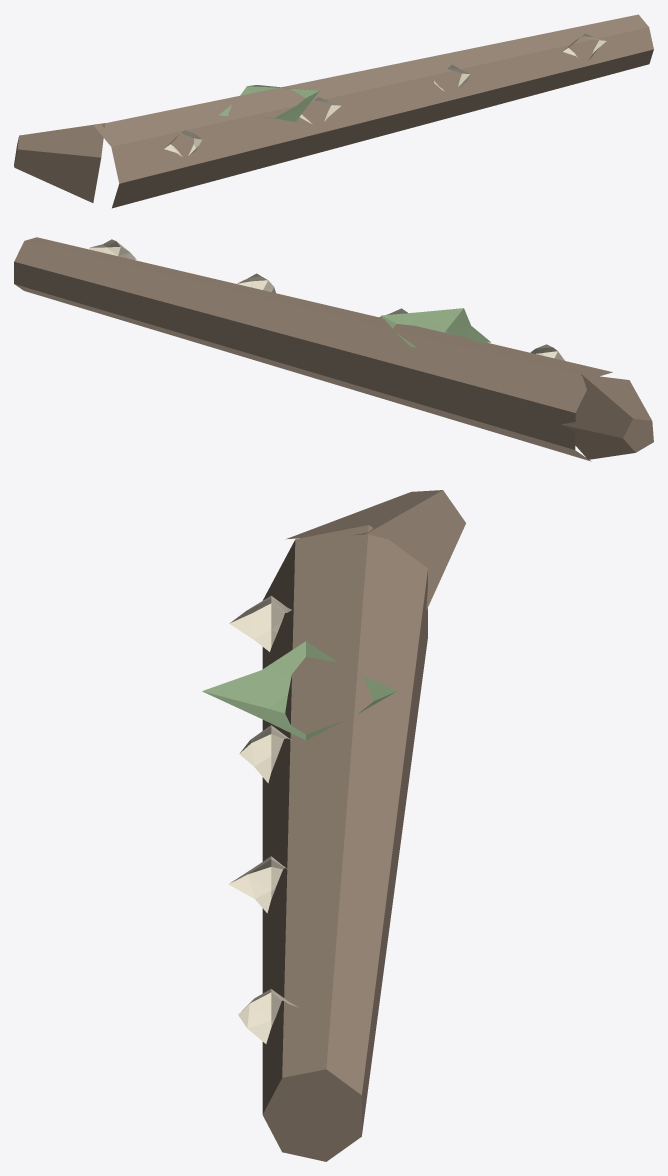
File: log_v41.glb
3 renders of one model, top to bottom at view 1: azimuth 30°, elevation 25°; view 2: azimuth 150°, elevation 25°; view 3: azimuth 270°, elevation 25°, orthographic. The views are drawn at different scales.
Parts seen in each view (by area): view 1: lod0; view 2: lod0; view 3: lod0.
Part boxes in pixels (bbox=[...]): lod0: bbox=[14, 14, 653, 208]; lod0: bbox=[14, 237, 653, 461]; lod0: bbox=[202, 490, 465, 1161].
Size of what is drawn, in the model's own units: 3.84 by 0.529 by 0.7289.
